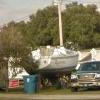Boat: (25, 44, 79, 80)
